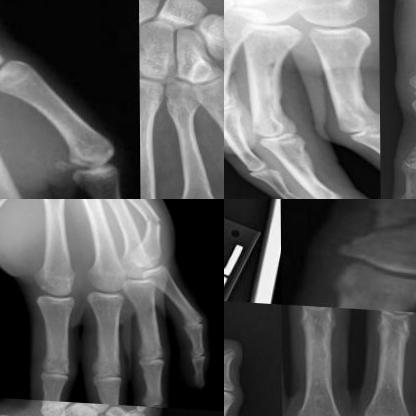fracture: (357, 199, 415, 258), (250, 49, 287, 110), (139, 205, 166, 235)
